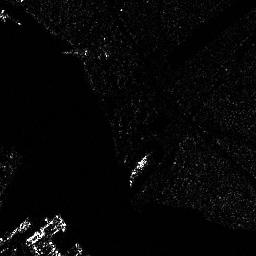ship: (128, 155, 148, 184), (1, 220, 27, 242)
